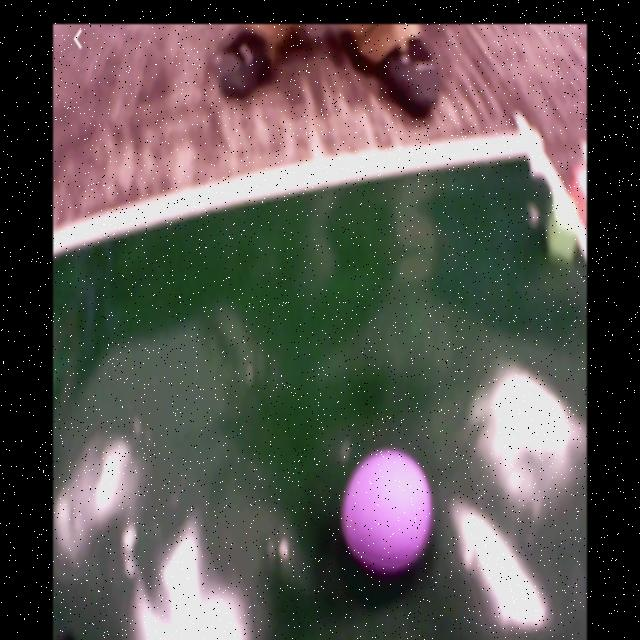ball: (342, 450, 433, 571)
